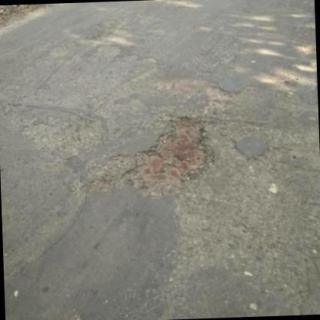pothole: (91, 117, 209, 196)
